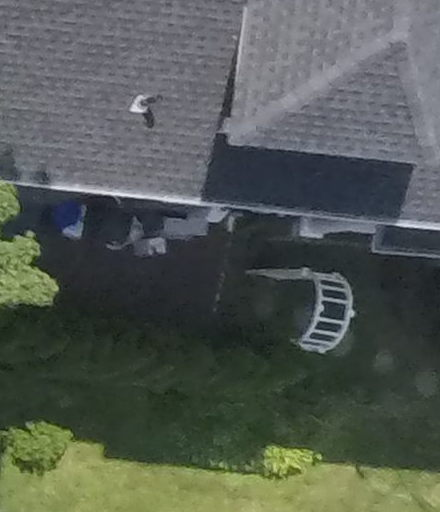trash bin: (47, 200, 92, 244), (98, 208, 145, 249)
